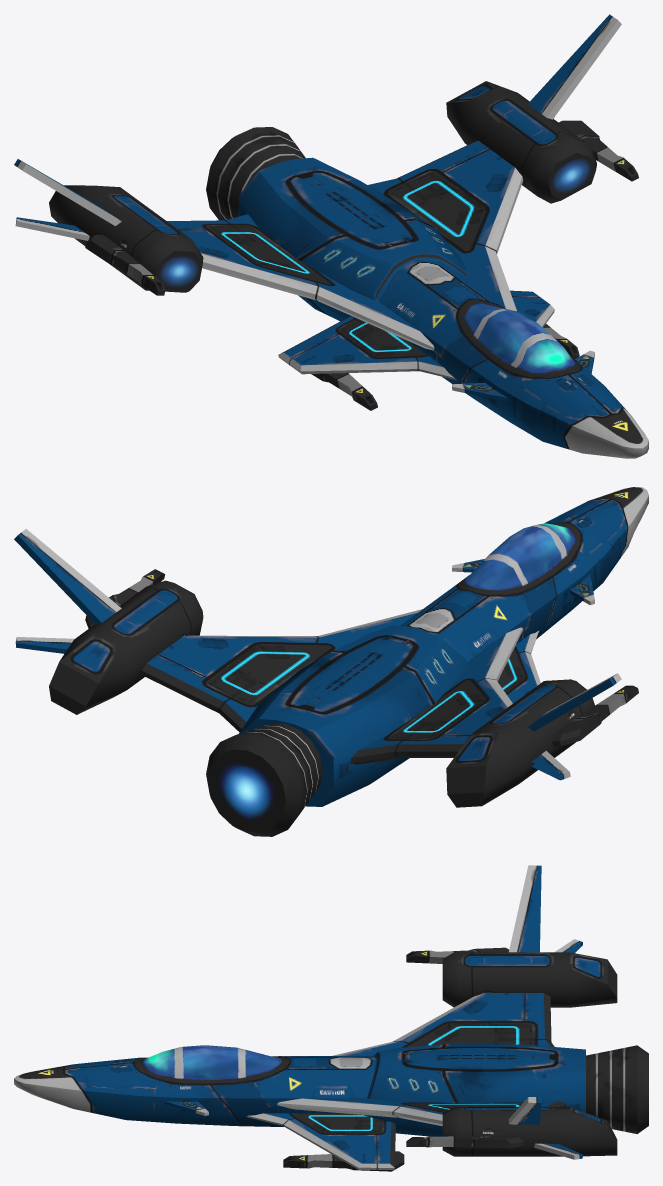
The model's file is DarkBlueL1M1R1.fbx.
3 views of the same model, one above another, from view 1: azimuth 30°, elevation 25°; view 2: azimuth 150°, elevation 25°; view 3: azimuth 270°, elevation 25° (orthographic). The views are drawn at different scales.
Parts seen in each view (by area): view 1: StarSparrow03; view 2: StarSparrow03; view 3: StarSparrow03.
Boxes of the visible parts, x1,y1,x2,y2 form: StarSparrow03: [14, 14, 648, 458]; StarSparrow03: [14, 487, 648, 836]; StarSparrow03: [14, 865, 648, 1171].
Bounding box in the file's own units: 949 × 281 × 1085.
Materials: 1 (1 with a texture image).
